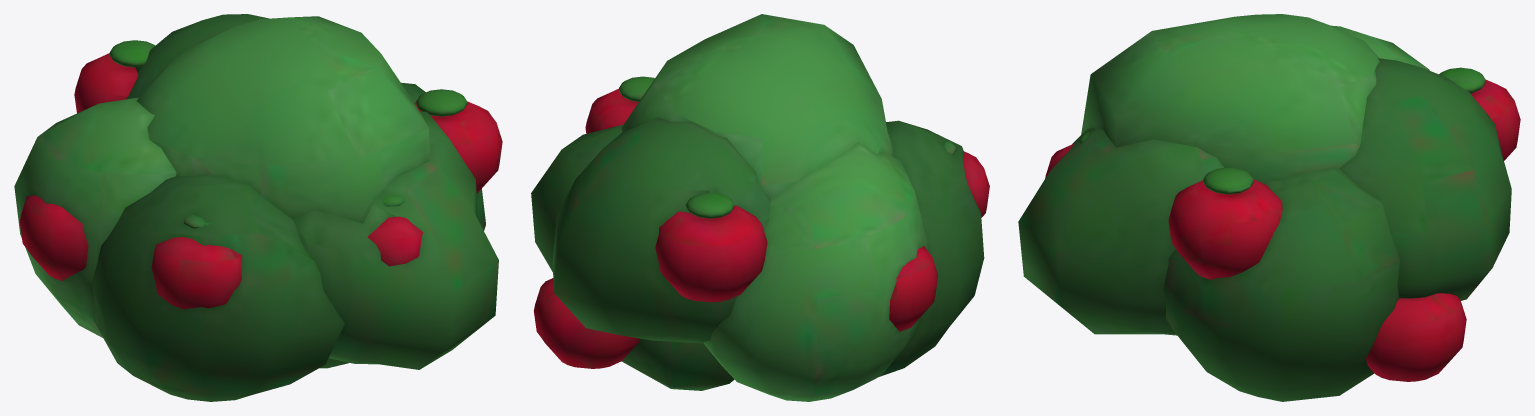
Rendered from crop_cranberry.glb.
3 renders of one model, left to right at view 1: azimuth 30°, elevation 25°; view 2: azimuth 150°, elevation 25°; view 3: azimuth 270°, elevation 25°, orthographic. The views are drawn at different scales.
Parts seen in each view (by area): view 1: crop_cranberry, fruit; view 2: crop_cranberry, fruit; view 3: crop_cranberry, fruit.
Part boxes in pixels (bbox=[...]): crop_cranberry: bbox=[14, 14, 498, 401]; fruit: bbox=[19, 53, 502, 309]; crop_cranberry: bbox=[531, 14, 984, 401]; fruit: bbox=[534, 88, 989, 368]; crop_cranberry: bbox=[1018, 14, 1511, 401]; fruit: bbox=[1045, 80, 1520, 381].
Bounding box in the file's own units: 0.2659 × 0.2091 × 0.275.
1 material, 1 textured.
